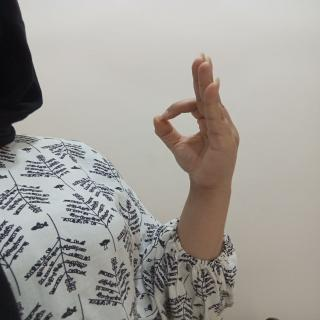Space: (146, 50, 248, 196)
